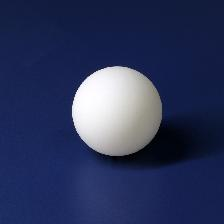WhiteBall: (71, 65, 161, 156)
